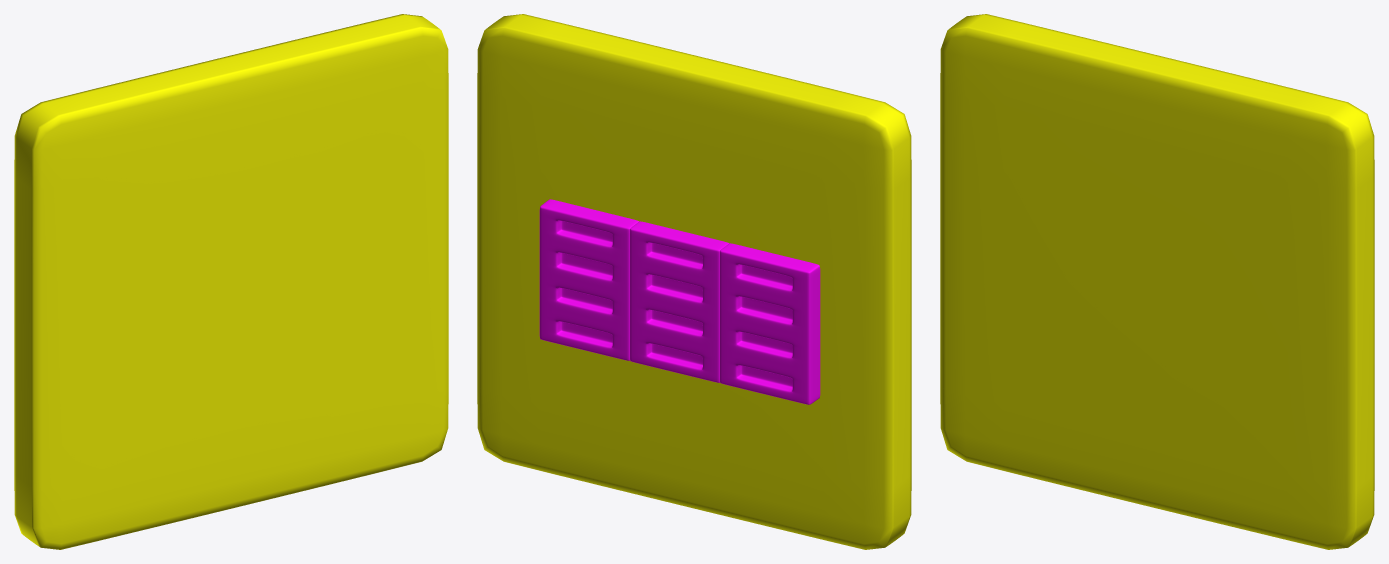
The picture shows the model from 3 angles, left to right: view 1: azimuth 30°, elevation 25°; view 2: azimuth 150°, elevation 25°; view 3: azimuth 330°, elevation 25°; orthographic projection.
Parts seen in each view (by area): view 1: polySurface995; view 2: polySurface995; view 3: polySurface995.
Boxes of the visible parts, x1,y1,x2,y2 form: polySurface995: (14,14,448,549); polySurface995: (477,14,911,549); polySurface995: (940,14,1374,549).
Size of the model in its own units: 0.9994 by 0.9994 by 0.1414.
